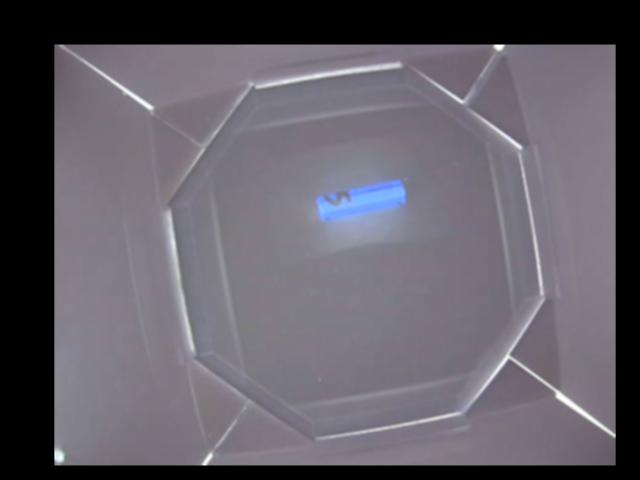Battery: (315, 180, 405, 217)
